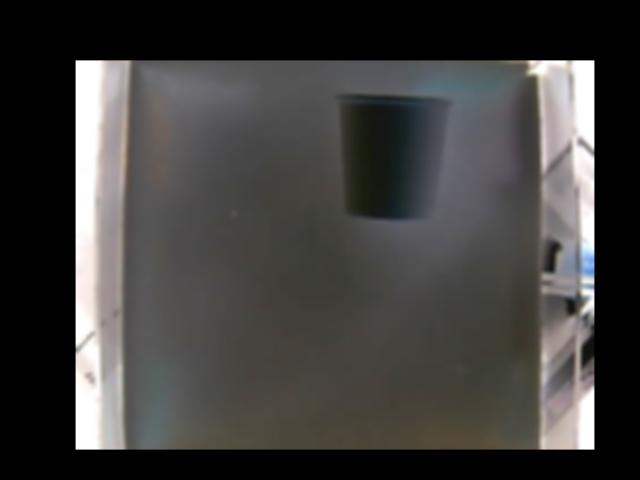Cup: (332, 92, 454, 222)
